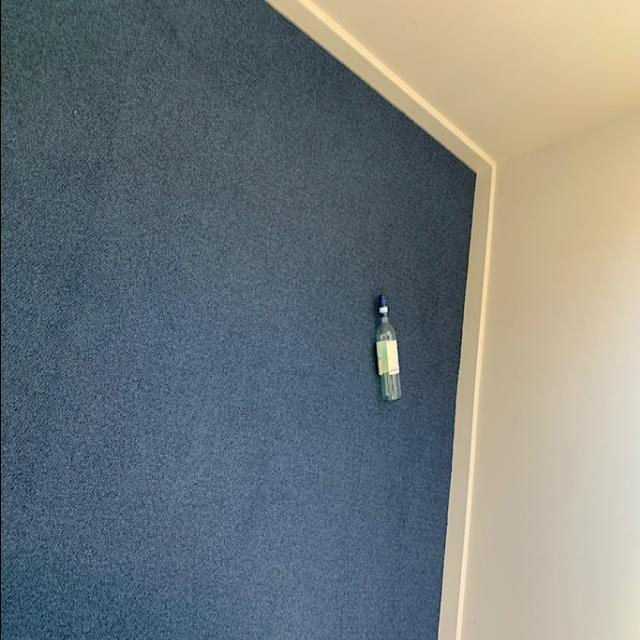litter: (370, 290, 402, 406)
